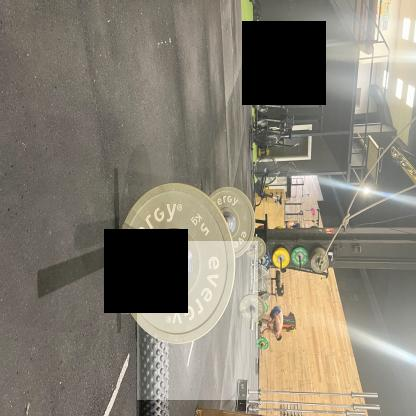barbell: (138, 242, 259, 401)
